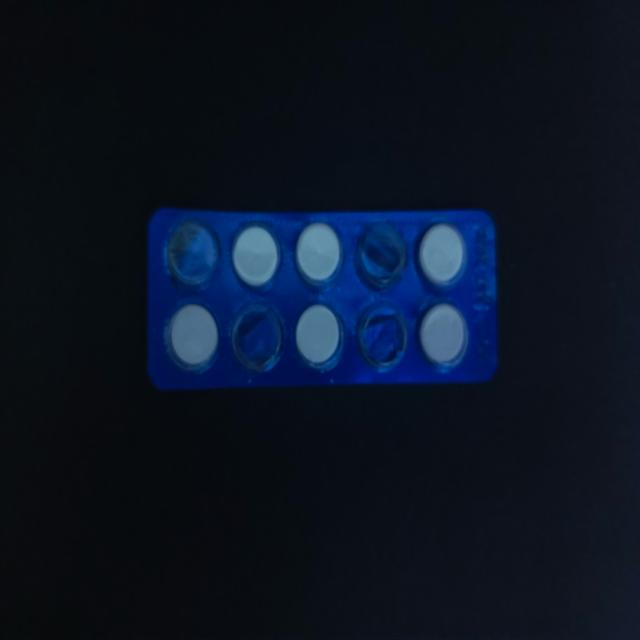defect: (164, 215, 224, 294), (228, 299, 288, 376), (352, 219, 410, 292), (354, 300, 410, 371)
